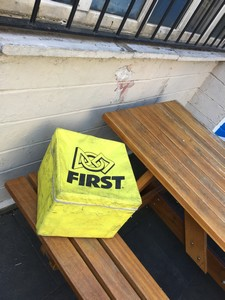cube: (28, 130, 141, 249)
